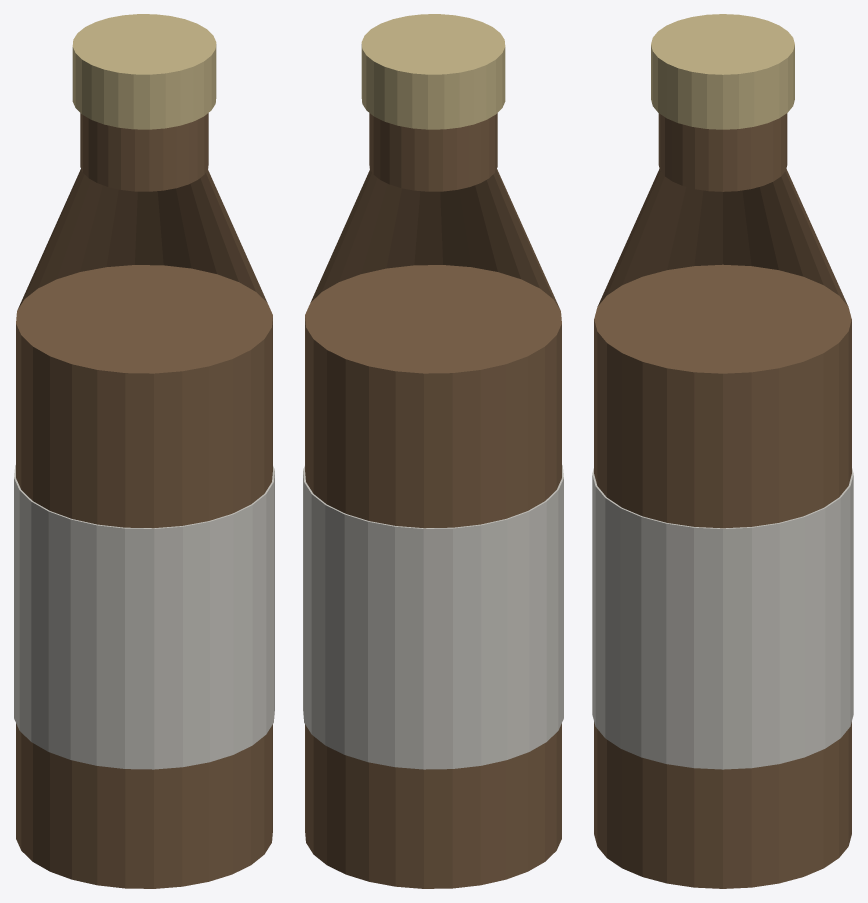
The model's file is coffee-bottle.glb.
The picture shows the model from 3 angles, left to right: view 1: azimuth 30°, elevation 25°; view 2: azimuth 150°, elevation 25°; view 3: azimuth 270°, elevation 25°; orthographic projection.
Parts seen in each view (by area): view 1: geometry_0, geometry_4, geometry_1, geometry_3, geometry_2; view 2: geometry_0, geometry_4, geometry_1, geometry_3, geometry_2; view 3: geometry_0, geometry_4, geometry_1, geometry_3, geometry_2.
Part boxes in pixels (box(x1,y1,x2,y2)): geometry_0: box(16, 265, 272, 888); geometry_4: box(14, 465, 274, 769); geometry_1: box(16, 169, 272, 373); geometry_3: box(72, 14, 216, 129); geometry_2: box(80, 113, 208, 191); geometry_0: box(305, 265, 561, 888); geometry_4: box(303, 465, 563, 769); geometry_1: box(305, 169, 561, 373); geometry_3: box(361, 14, 505, 129); geometry_2: box(369, 113, 497, 191); geometry_0: box(594, 264, 851, 888); geometry_4: box(592, 468, 853, 769); geometry_1: box(595, 169, 851, 373); geometry_3: box(651, 14, 794, 129); geometry_2: box(658, 113, 787, 191).
Bounding box in the file's own units: 0.069 × 0.23 × 0.069.
